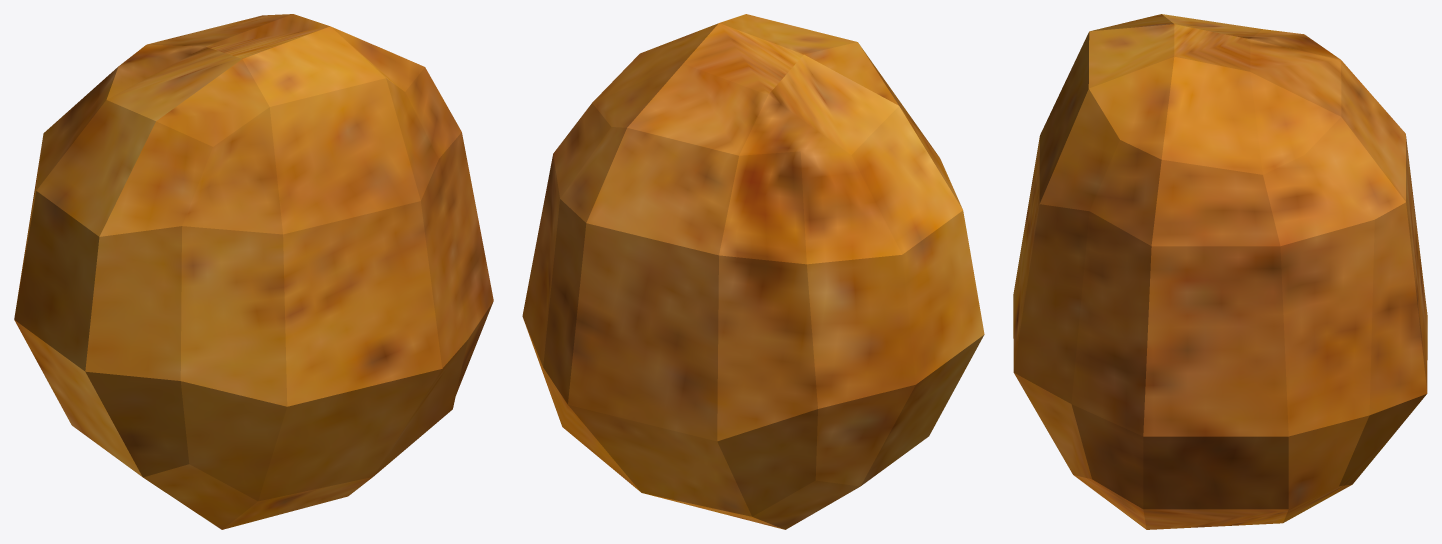
File: Potato.fbx
3 renders of one model, left to right at view 1: azimuth 30°, elevation 25°; view 2: azimuth 150°, elevation 25°; view 3: azimuth 270°, elevation 25°, orthographic. The views are drawn at different scales.
Parts seen in each view (by area): view 1: Potato; view 2: Potato; view 3: Potato.
Part boxes in pixels (<box>): Potato: <box>14,14,493,529</box>; Potato: <box>522,14,984,529</box>; Potato: <box>1013,14,1427,529</box>.
Bounding box in the file's own units: 133 × 144 × 114.
